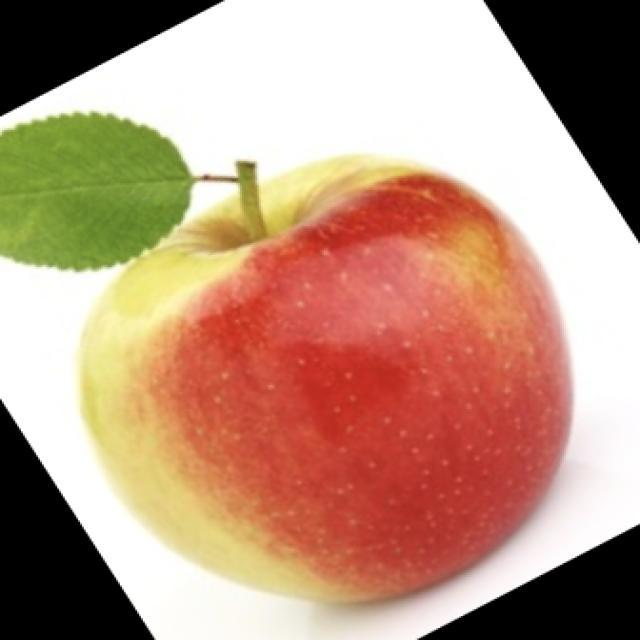Apple: (75, 151, 574, 605)
